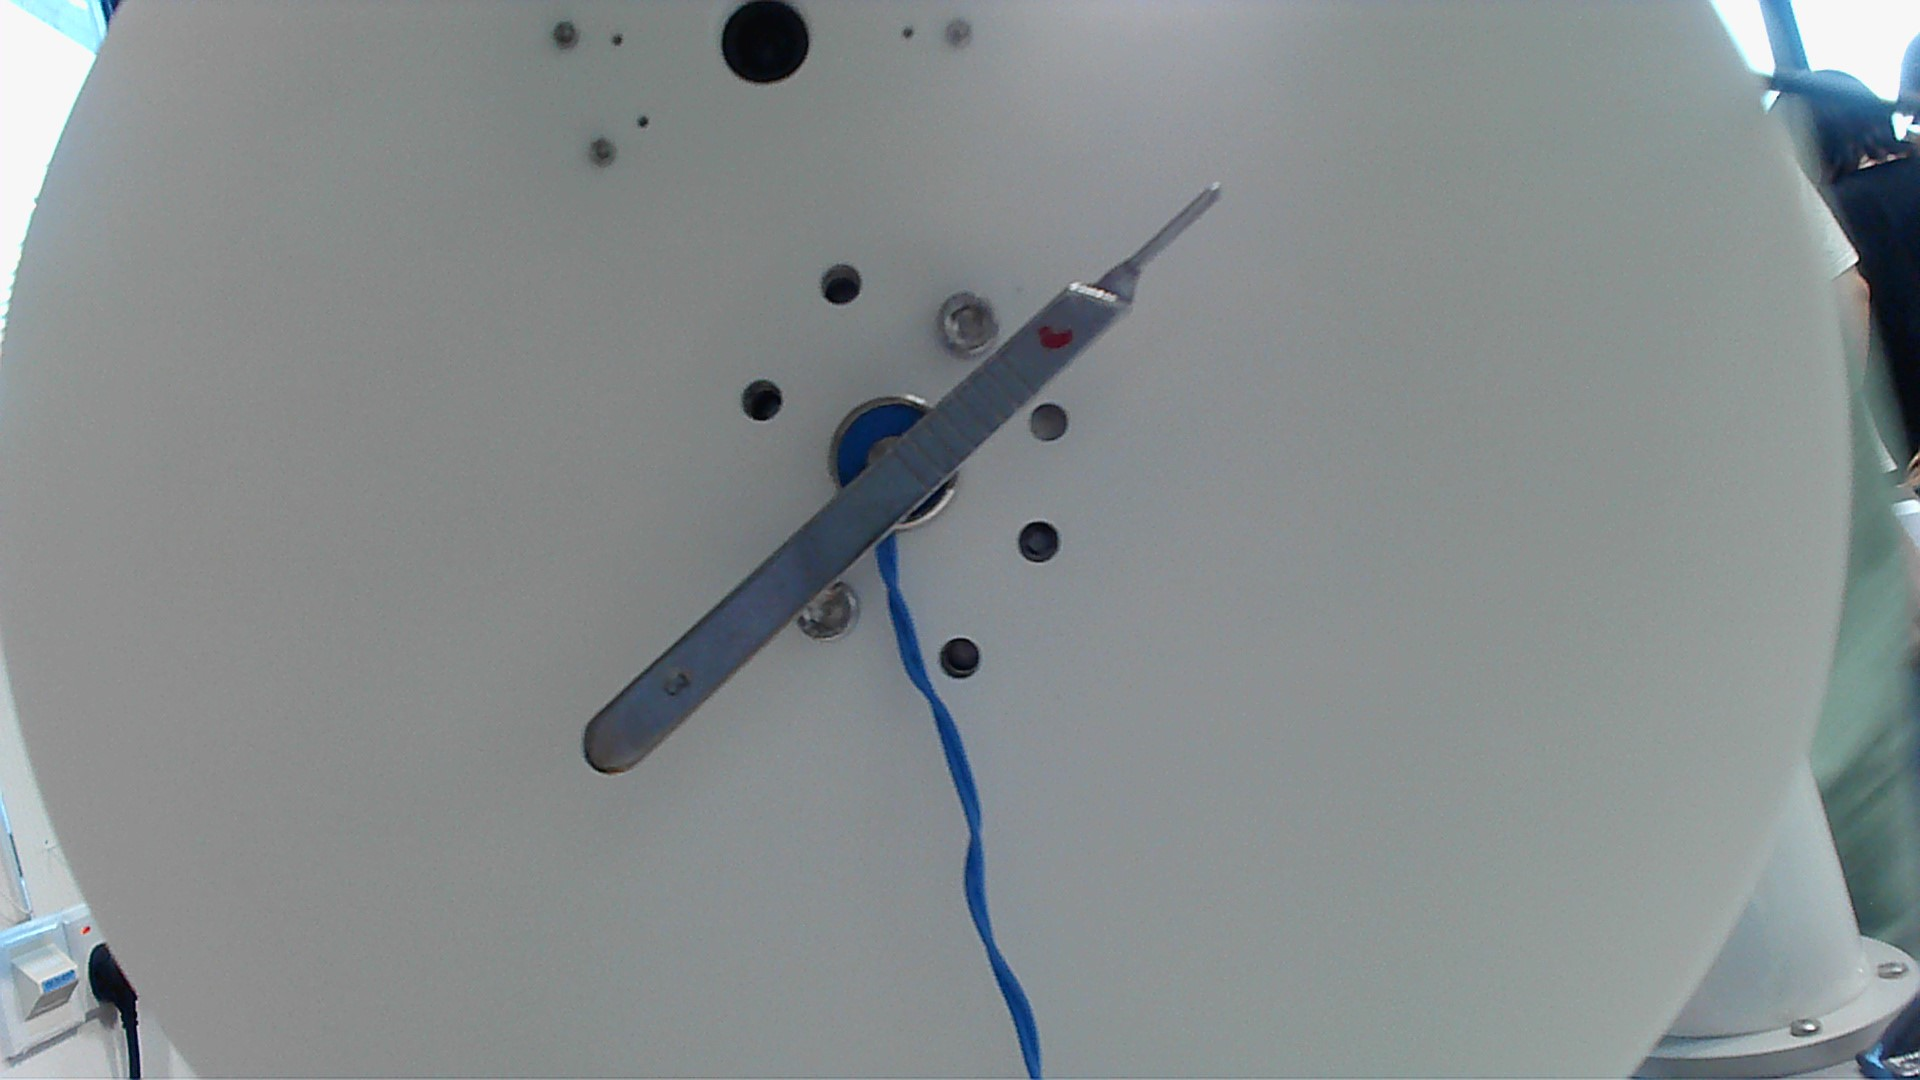Stain: (1029, 323, 1077, 347)
